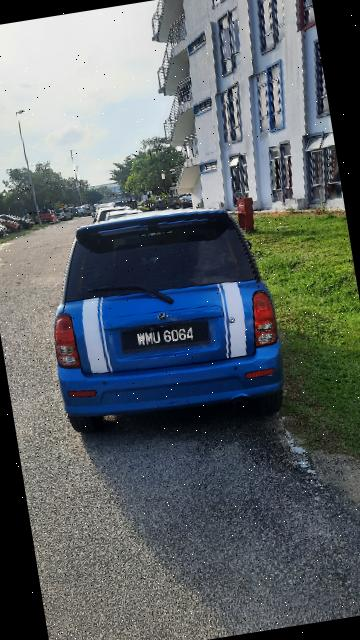License_Plate: (116, 313, 212, 363)
car: (29, 193, 298, 449)
